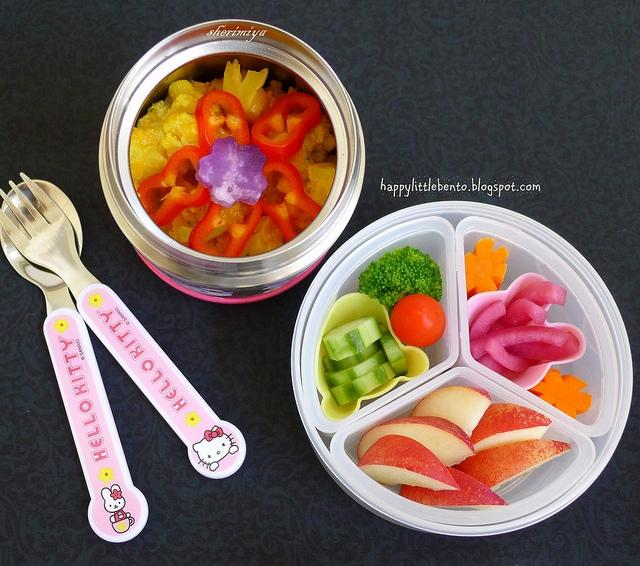apple: (452, 440, 572, 490), (358, 434, 462, 491), (358, 416, 476, 466), (399, 465, 510, 510), (409, 386, 492, 438), (469, 403, 552, 453)
bell pepper: (136, 145, 210, 226), (260, 161, 322, 242), (251, 92, 323, 160), (188, 198, 262, 257), (196, 90, 250, 154), (204, 232, 230, 254)
broccoli: (359, 246, 442, 320)
carrot: (527, 368, 592, 419), (464, 238, 508, 299)
cucumber: (328, 361, 396, 406), (322, 316, 382, 361), (324, 348, 388, 388), (322, 340, 383, 372), (378, 323, 408, 376)
tomato: (260, 160, 322, 243), (390, 294, 446, 348)
